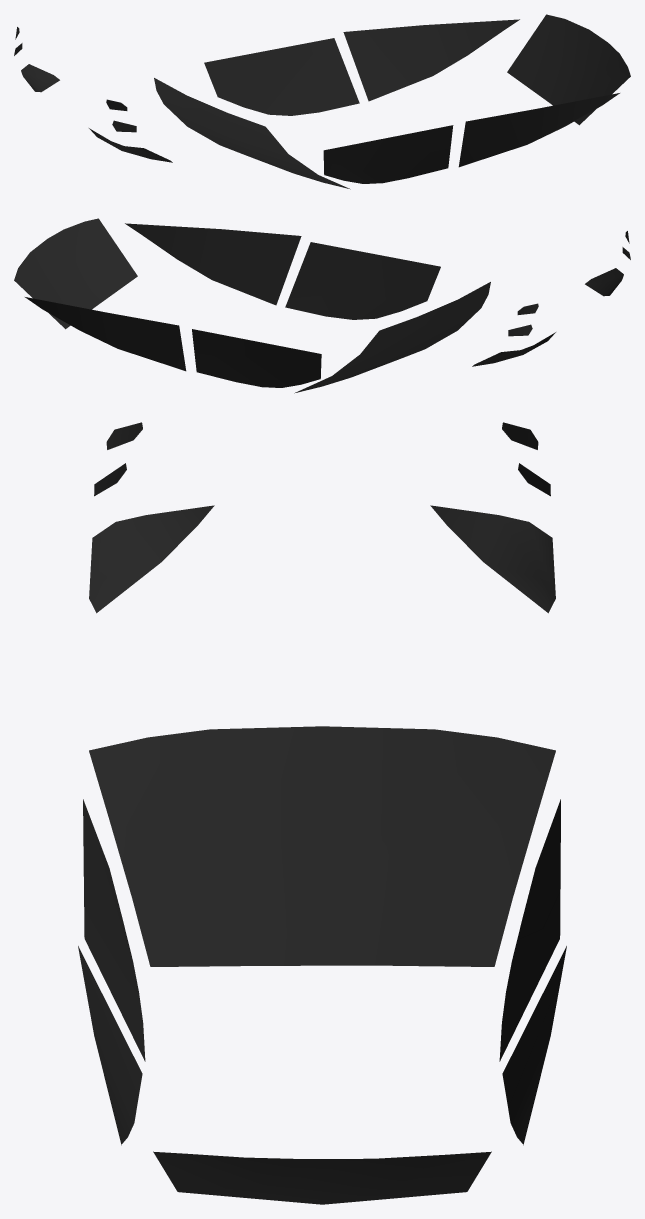
File: FN_glass_d1.obj
3 renders of one model, top to bottom at view 1: azimuth 30°, elevation 25°; view 2: azimuth 150°, elevation 25°; view 3: azimuth 270°, elevation 25°, orthographic. The views are drawn at different scales.
Parts seen in each view (by area): view 1: FN_glass; view 2: FN_glass; view 3: FN_glass.
Part boxes in pixels (x1=…): FN_glass: x1=14, y1=14, x2=630, y2=189; FN_glass: x1=14, y1=218, x2=630, y2=393; FN_glass: x1=78, y1=422, x2=566, y2=1204.
Bounding box in the file's own units: 3.89 × 1.06 × 1.52.
Materials: 1 (1 with a texture image).
